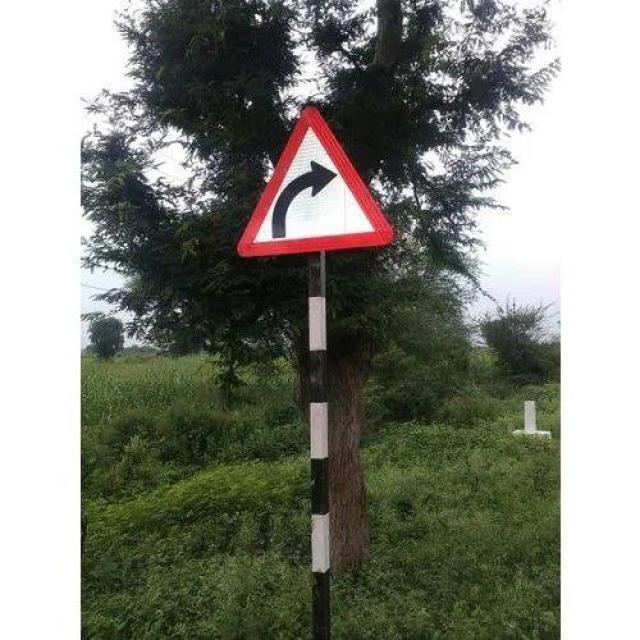right hand curve: (233, 106, 394, 261)
